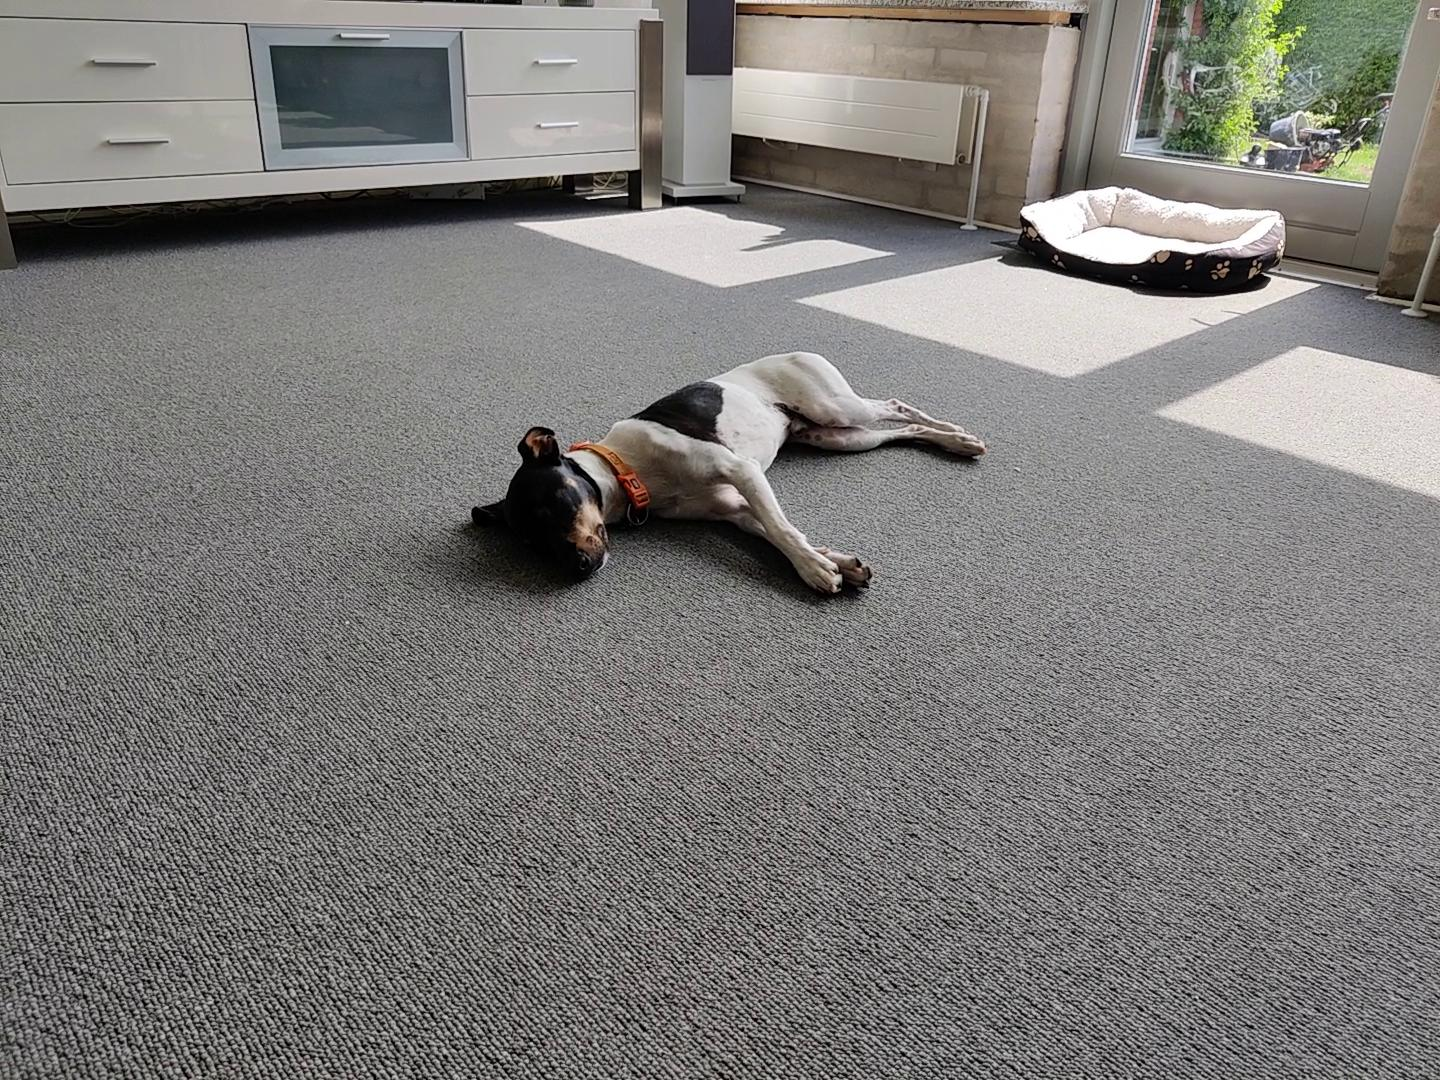Dog: (447, 337, 1005, 609)
